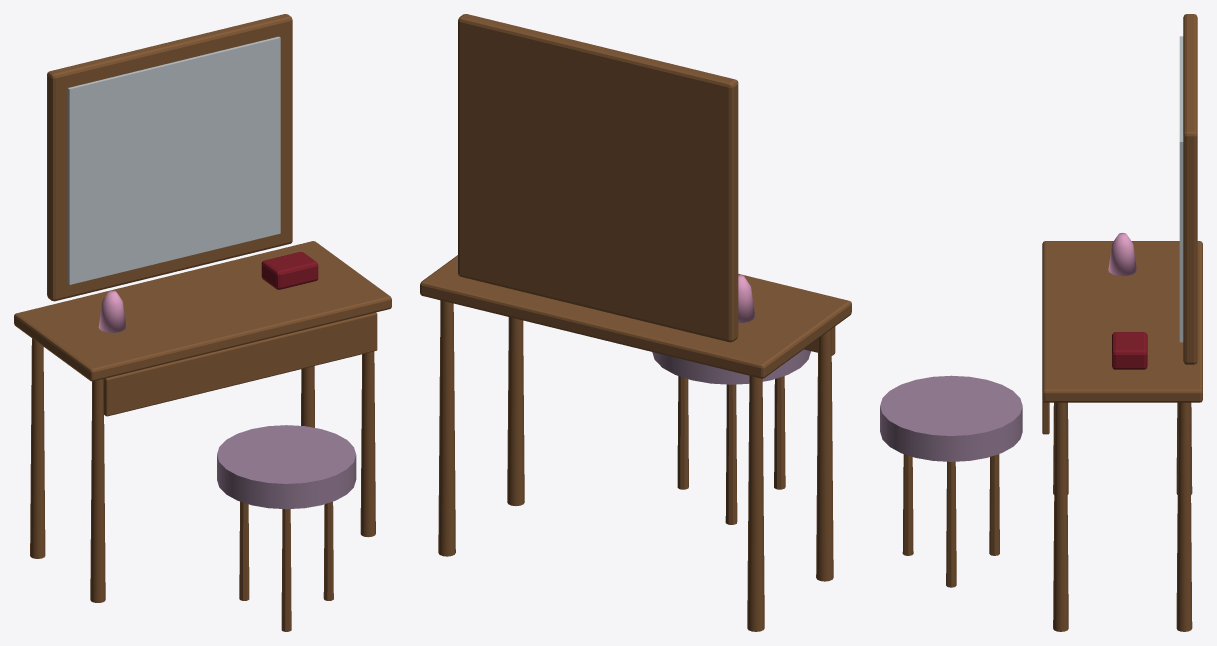
Rendered from vanity.glb.
The picture shows the model from 3 angles, left to right: view 1: azimuth 30°, elevation 25°; view 2: azimuth 150°, elevation 25°; view 3: azimuth 270°, elevation 25°; orthographic projection. The views are drawn at different scales.
Visible parts, largest first — view 1: vanity; view 2: vanity; view 3: vanity.
Part boxes in pixels (x1=…): vanity: x1=14, y1=14, x2=391, y2=631; vanity: x1=420, y1=14, x2=851, y2=631; vanity: x1=880, y1=14, x2=1202, y2=631.
Size of the model in its own units: 1 by 1.52 by 0.905.
